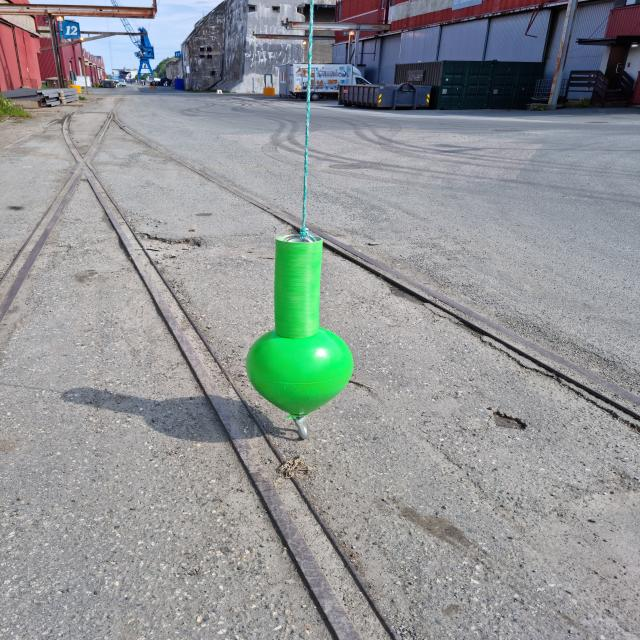green: (245, 233, 356, 414)
